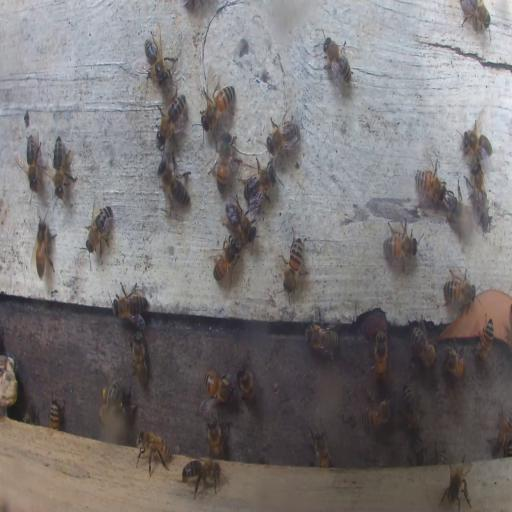bee: (158, 151, 191, 214), (382, 218, 421, 270), (440, 453, 473, 511), (463, 162, 490, 229), (304, 305, 340, 355), (180, 457, 225, 497), (134, 428, 173, 474), (320, 33, 352, 88), (243, 155, 276, 208), (199, 82, 235, 130), (144, 32, 176, 86), (85, 201, 114, 256), (282, 231, 306, 297), (51, 136, 75, 202), (266, 115, 300, 160), (224, 196, 255, 244), (110, 284, 147, 322), (32, 219, 56, 277), (157, 95, 186, 143), (18, 134, 42, 192), (211, 236, 241, 282), (461, 118, 492, 162), (442, 272, 476, 310), (98, 379, 124, 427), (361, 394, 394, 430), (448, 193, 475, 237), (414, 165, 445, 203), (488, 405, 511, 456), (410, 324, 436, 369), (214, 133, 233, 194), (402, 383, 423, 432), (130, 332, 149, 386), (204, 369, 234, 402), (460, 2, 492, 31), (474, 316, 494, 362), (206, 412, 225, 460), (312, 425, 334, 466), (236, 365, 256, 410), (374, 328, 388, 384), (443, 345, 467, 376), (48, 399, 62, 431)
